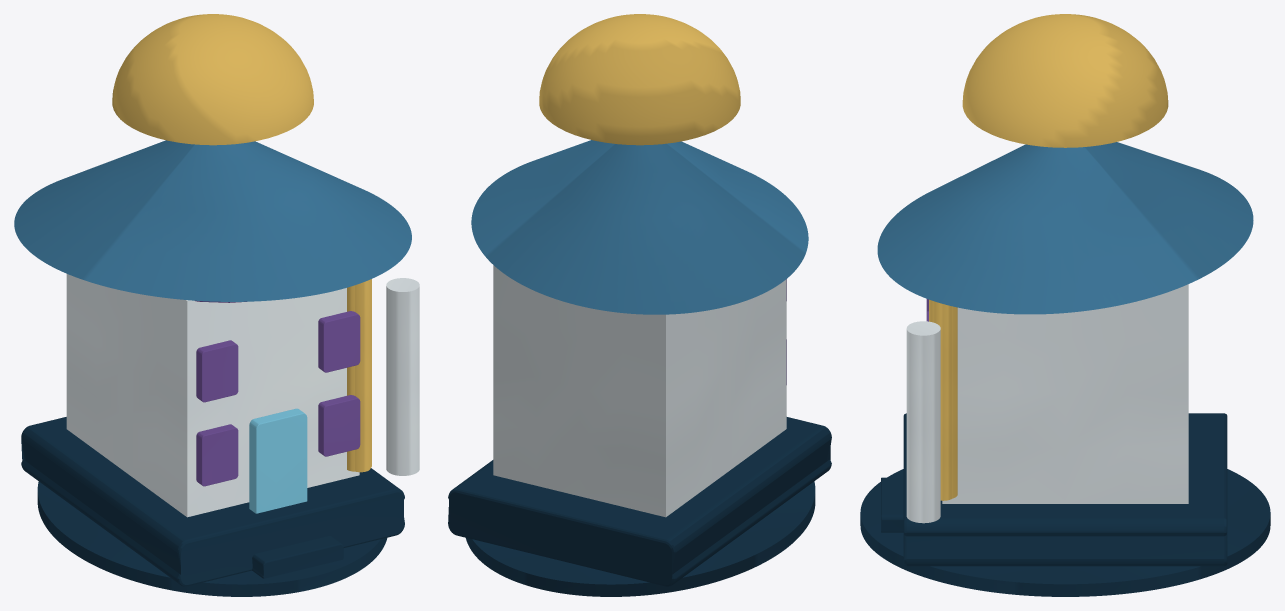
Rendered from 0639_地貌图鉴_冰沟宫殿式丹霞.glb.
3 renders of one model, left to right at view 1: azimuth 30°, elevation 25°; view 2: azimuth 150°, elevation 25°; view 3: azimuth 270°, elevation 25°, orthographic.
Parts seen in each view (by area): view 1: card_0639; view 2: card_0639; view 3: card_0639.
Boxes of the visible parts, bbox=[...] form: card_0639: bbox=[14, 14, 419, 596]; card_0639: bbox=[448, 14, 831, 596]; card_0639: bbox=[860, 14, 1270, 596].
Bounding box in the file's own units: 0.681 × 1 × 0.7426.
